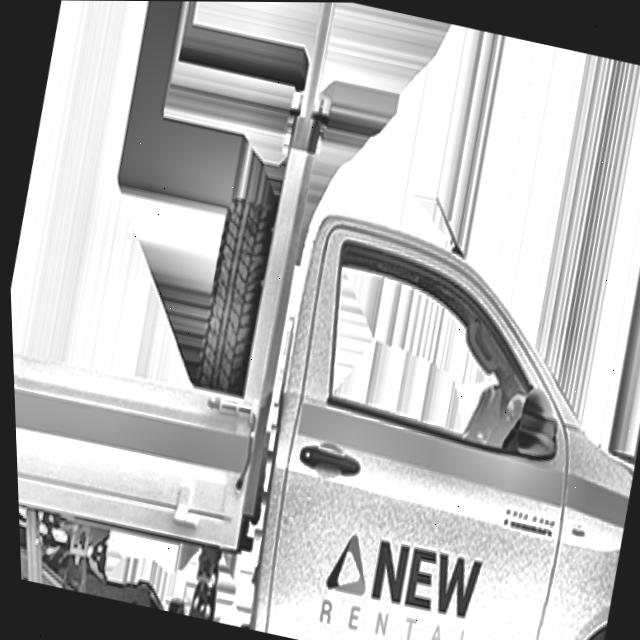light_vehicle: (3, 93, 640, 640)
